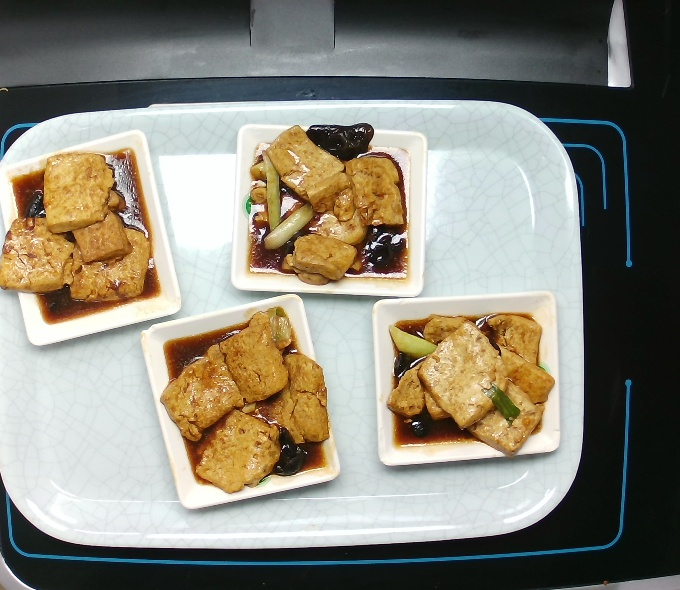wcq-JiaChangDouFu: (156, 302, 334, 498), (1, 142, 168, 328), (240, 121, 416, 289), (382, 308, 556, 461)
